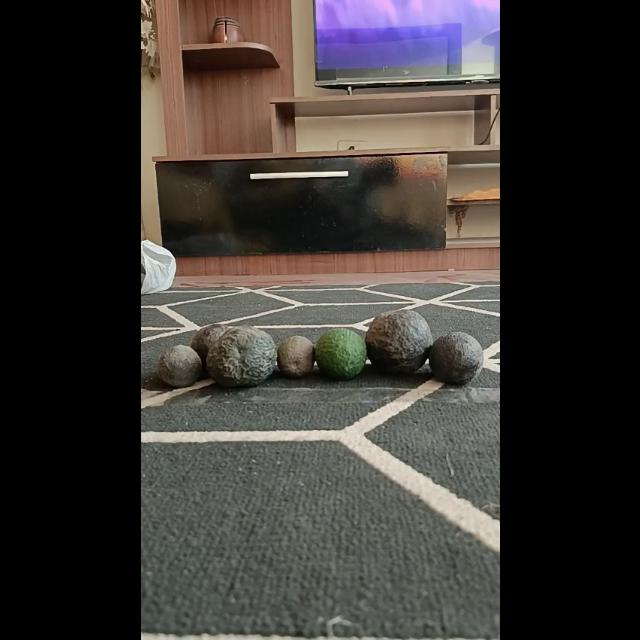Primera: (363, 309, 432, 373), (205, 327, 277, 388)
Segunda: (428, 331, 482, 385), (314, 328, 366, 378)
Tercera: (156, 344, 202, 388), (276, 335, 314, 377)
